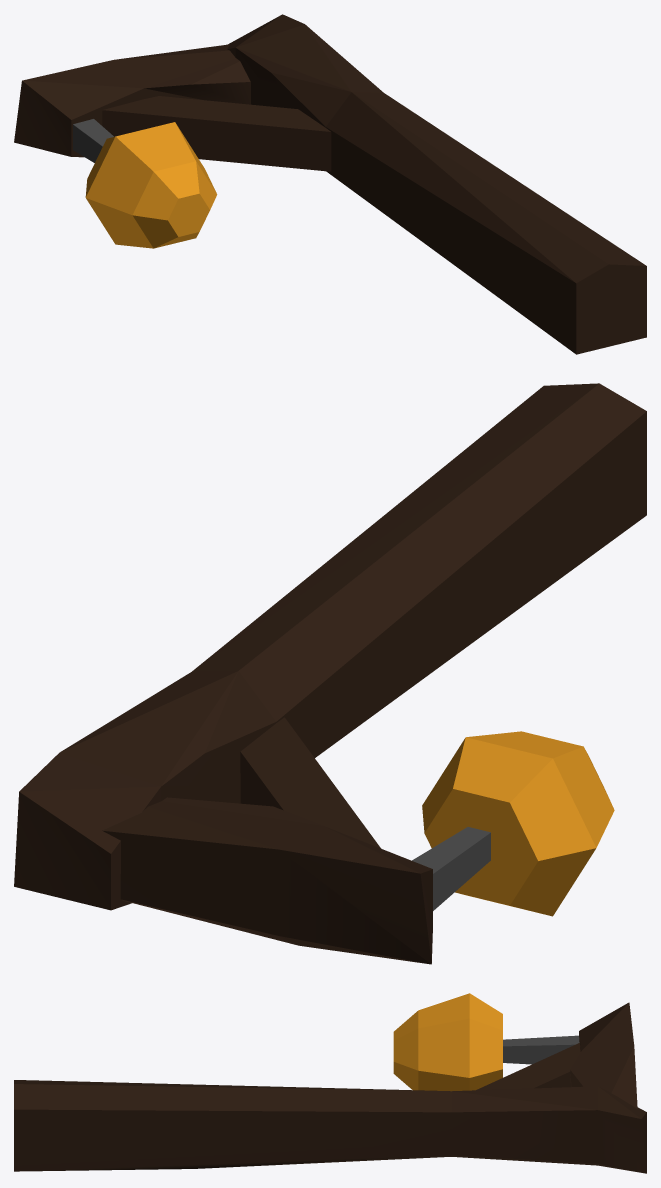
File: Lamp.FBX
3 renders of one model, top to bottom at view 1: azimuth 30°, elevation 25°; view 2: azimuth 150°, elevation 25°; view 3: azimuth 270°, elevation 25°, orthographic. The views are drawn at different scales.
Visible parts, largest first — view 1: Lamp; view 2: Lamp; view 3: Lamp.
Part boxes in pixels (box(x1,y1,x2,y2)): Lamp: box(14, 14, 646, 354); Lamp: box(14, 383, 646, 964); Lamp: box(14, 993, 646, 1173).
Bounding box in the file's own units: 1.06 × 0.3922 × 2.23.
